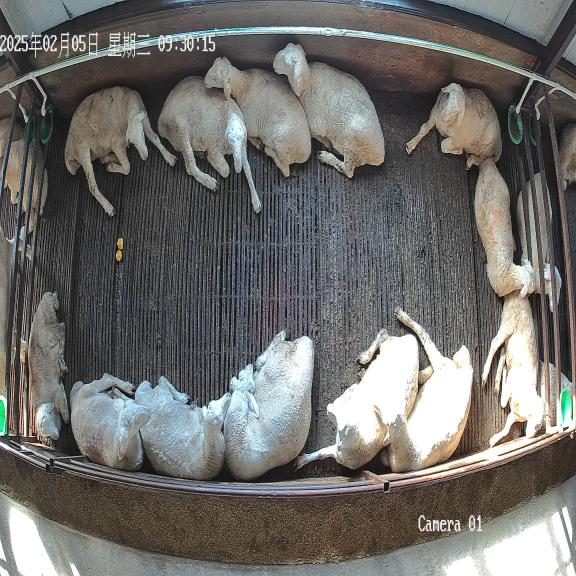lying: (297, 329, 419, 468), (375, 311, 473, 472), (273, 43, 385, 178), (64, 86, 176, 216), (158, 76, 261, 213), (224, 331, 314, 481), (205, 57, 311, 177), (135, 376, 231, 480), (483, 290, 544, 445), (474, 159, 536, 297), (406, 83, 502, 170), (70, 374, 150, 471), (28, 292, 70, 441)
